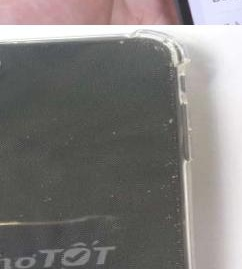scratch: (108, 29, 200, 269), (4, 106, 82, 149)
